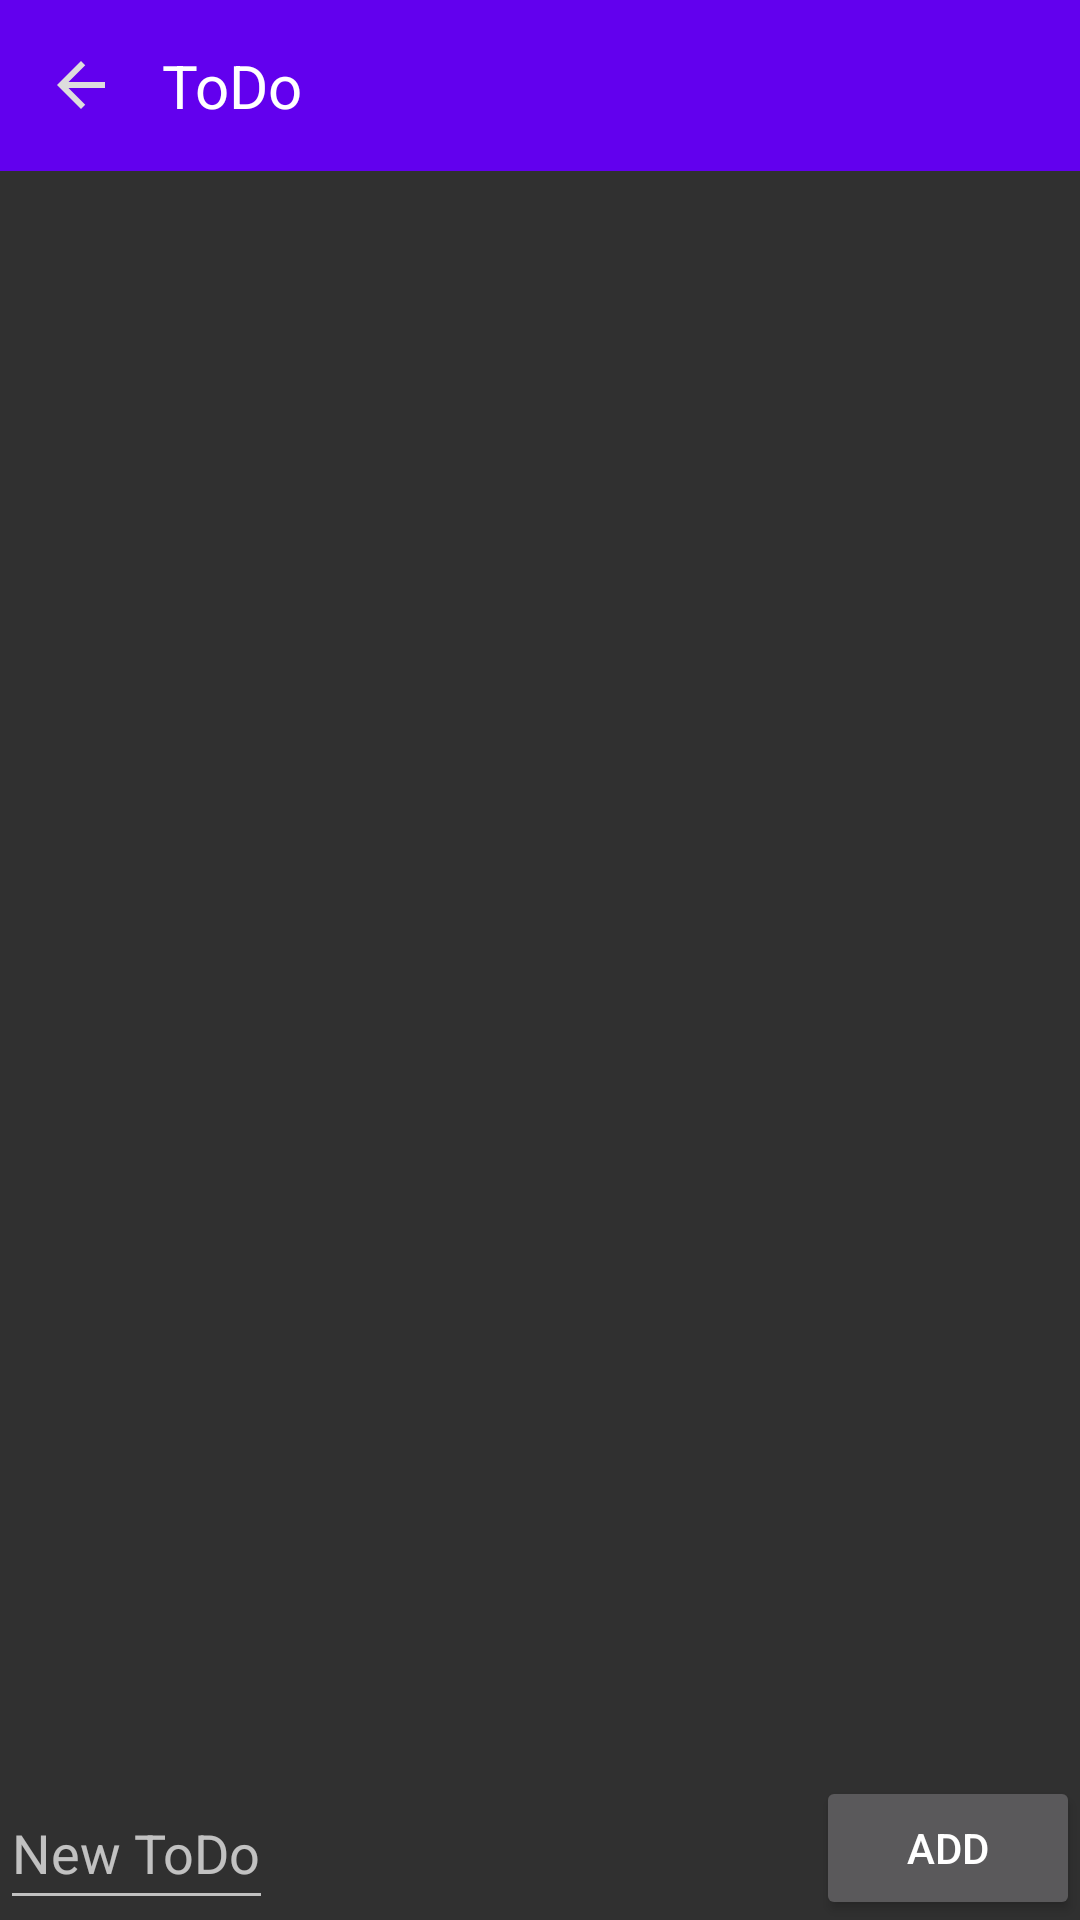

Named icons in this screenshot (1080 × 1920) and their centers, [x,y]:
arrow back: [81,85]
